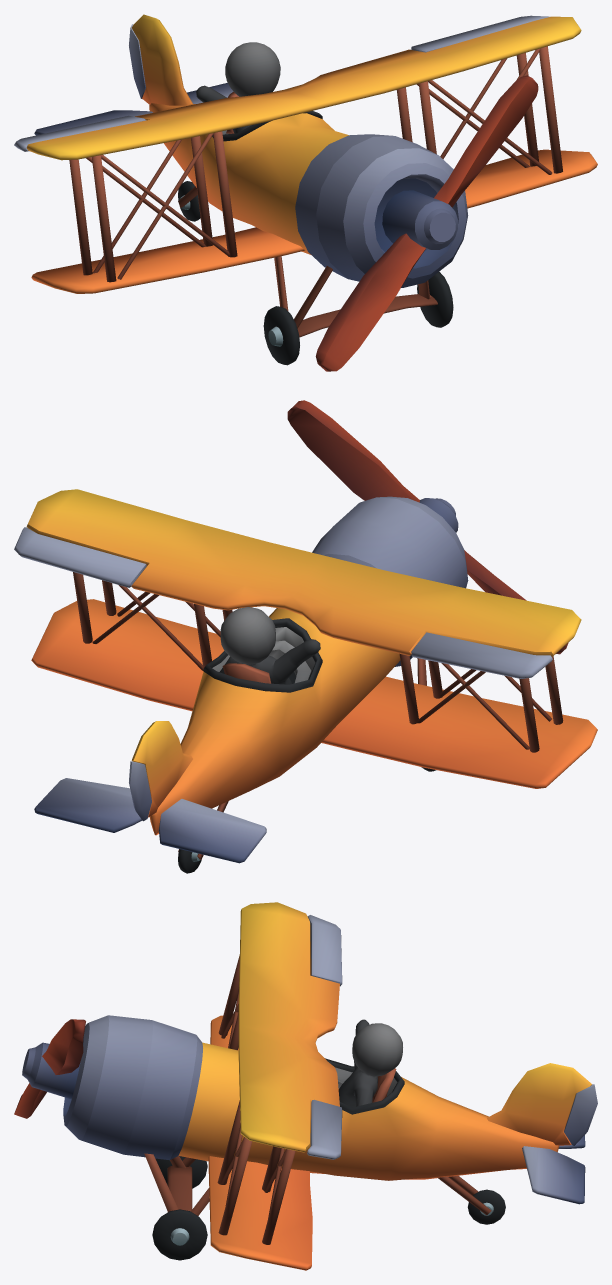
The picture shows the model from 3 angles, top to bottom: view 1: azimuth 30°, elevation 25°; view 2: azimuth 150°, elevation 25°; view 3: azimuth 270°, elevation 25°; orthographic projection. The views are drawn at different scales.
Parts seen in each view (by area): view 1: PlaneBody, PlaneEngine; view 2: PlaneBody, PlaneEngine; view 3: PlaneBody, PlaneEngine.
Boxes of the visible parts, x1=… form: PlaneBody: x1=14, y1=14, x2=597, y2=365; PlaneEngine: x1=315, y1=75, x2=538, y2=371; PlaneBody: x1=14, y1=489, x2=597, y2=873; PlaneEngine: x1=287, y1=400, x2=568, y2=654; PlaneBody: x1=63, y1=902, x2=597, y2=1270; PlaneEngine: x1=14, y1=1019, x2=85, y2=1118.
Bounding box in the file's own units: 116 × 57.75 × 119.
Materials: 2 (2 with a texture image).
